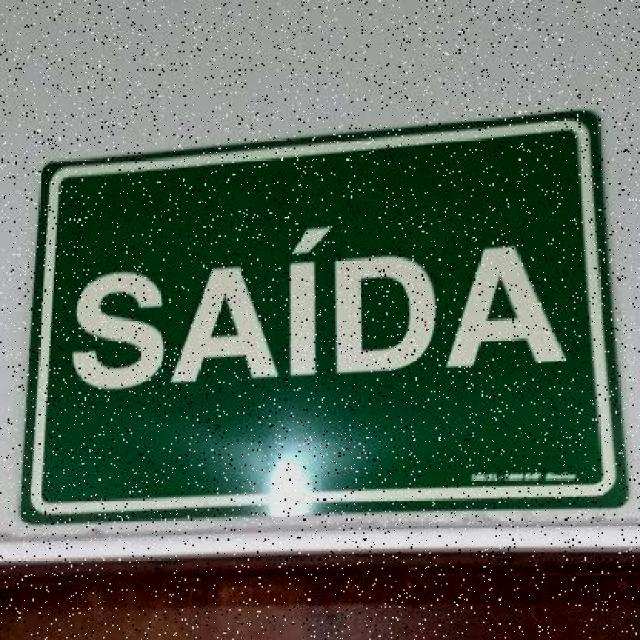emergency_exit: (20, 109, 627, 526)
